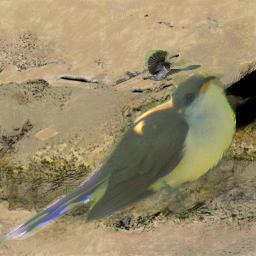Cuckoo: (2, 73, 236, 240)
Swallow: (142, 50, 201, 81)
